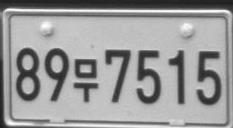1: (166, 49, 193, 104)
5: (136, 49, 162, 104), (196, 50, 222, 105)
7: (104, 49, 131, 103)
8: (15, 46, 41, 102)
9: (43, 47, 69, 101)
무: (73, 58, 99, 103)
